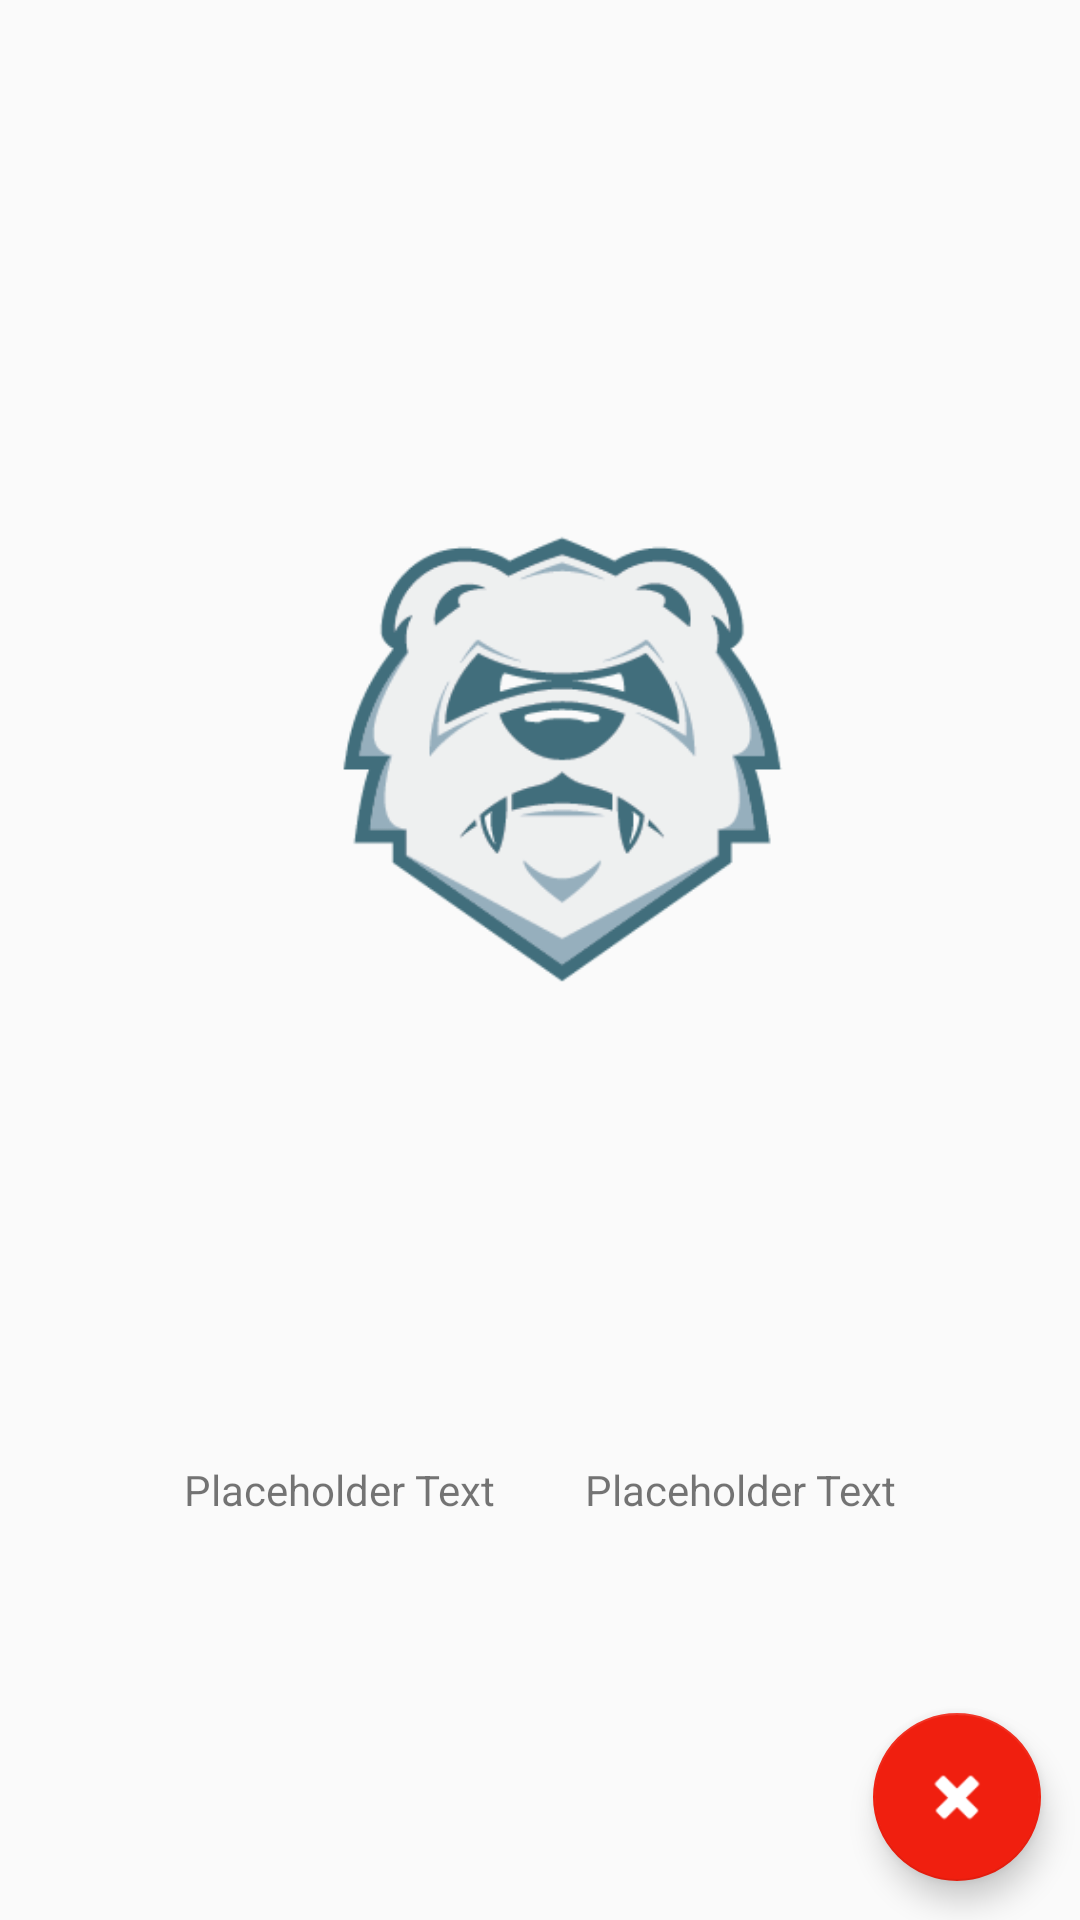

Locate icon controls on the screen. Image size 1080x1920, boxes as (x1, y1, x2, y2).
delete: (873, 1713, 1041, 1881)
